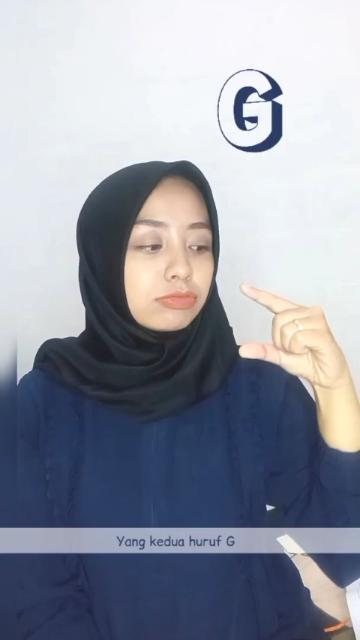G: (236, 280, 348, 392)
